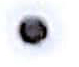cancer: (6, 4, 64, 57)
